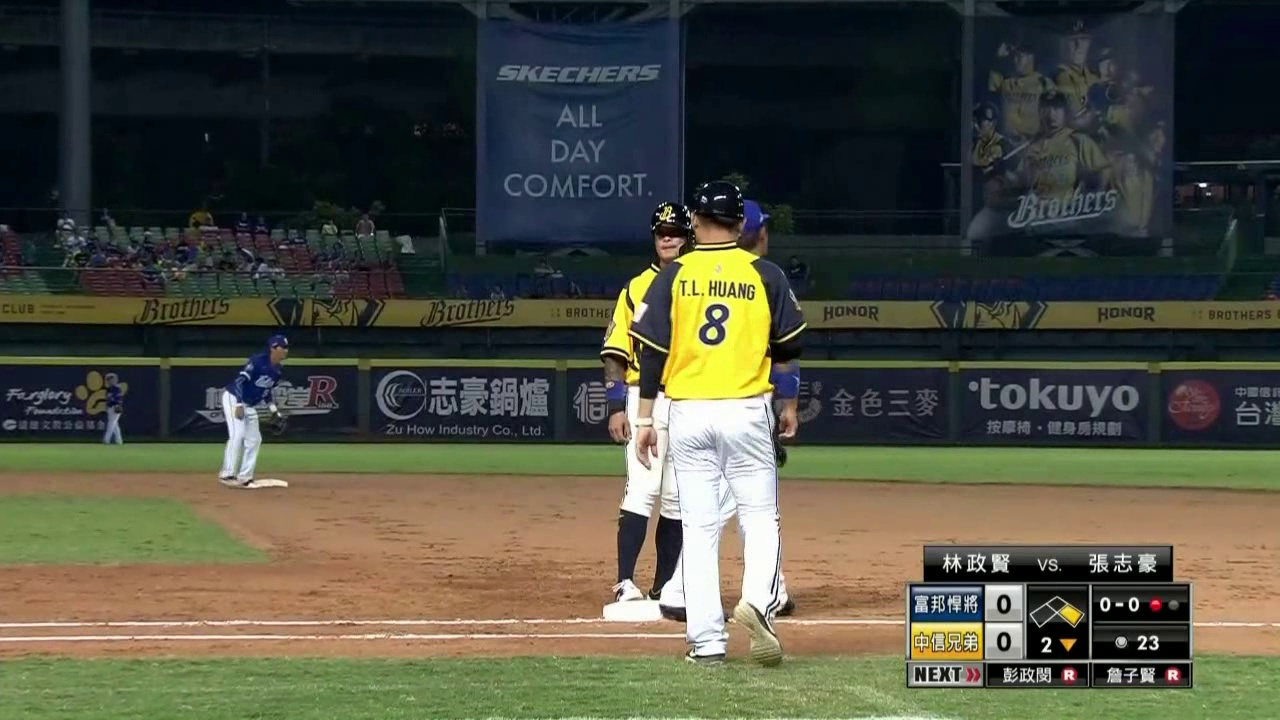base: (1028, 592, 1086, 630)
out: (1145, 587, 1186, 621)
score1: (987, 587, 1018, 619)
score2: (987, 626, 1024, 659)
session: (1028, 632, 1085, 660)
strikeball: (1093, 589, 1144, 622)
total: (1093, 630, 1190, 658)
